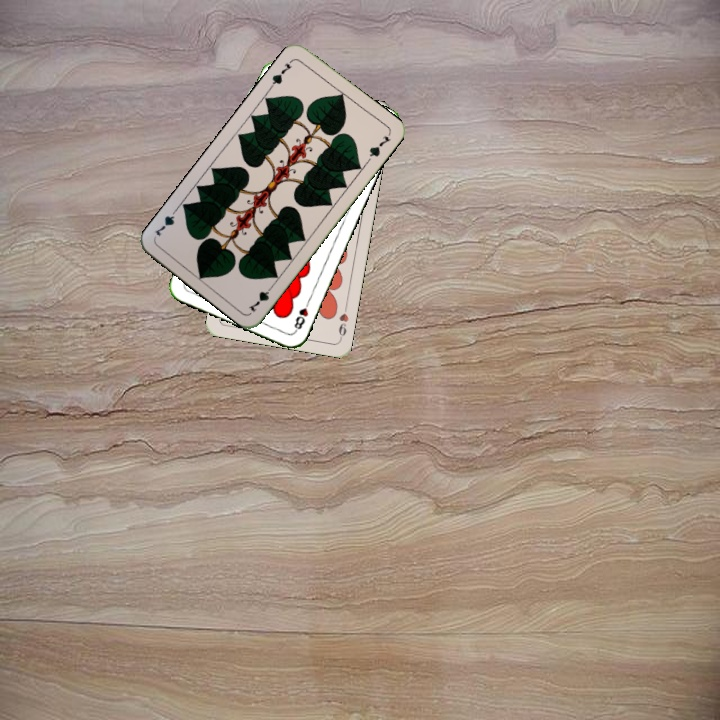G7: (245, 280, 277, 315), (266, 56, 296, 91)
H8: (290, 295, 313, 334)
H9: (334, 301, 351, 342)
